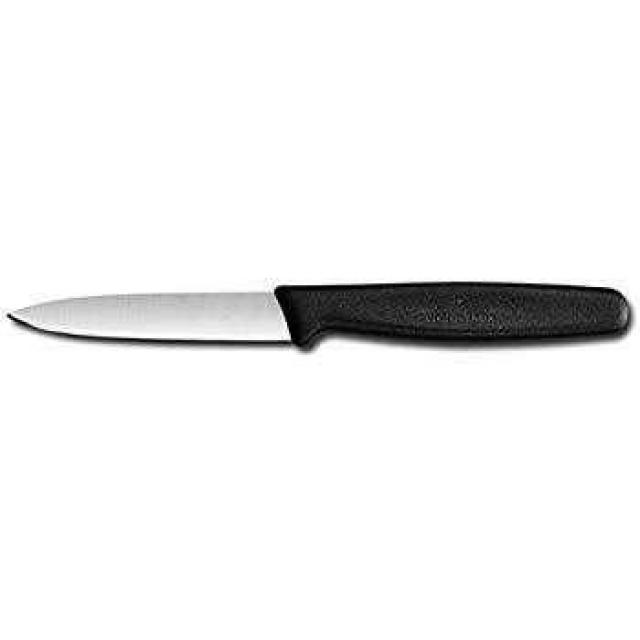knife: (0, 247, 637, 370)
